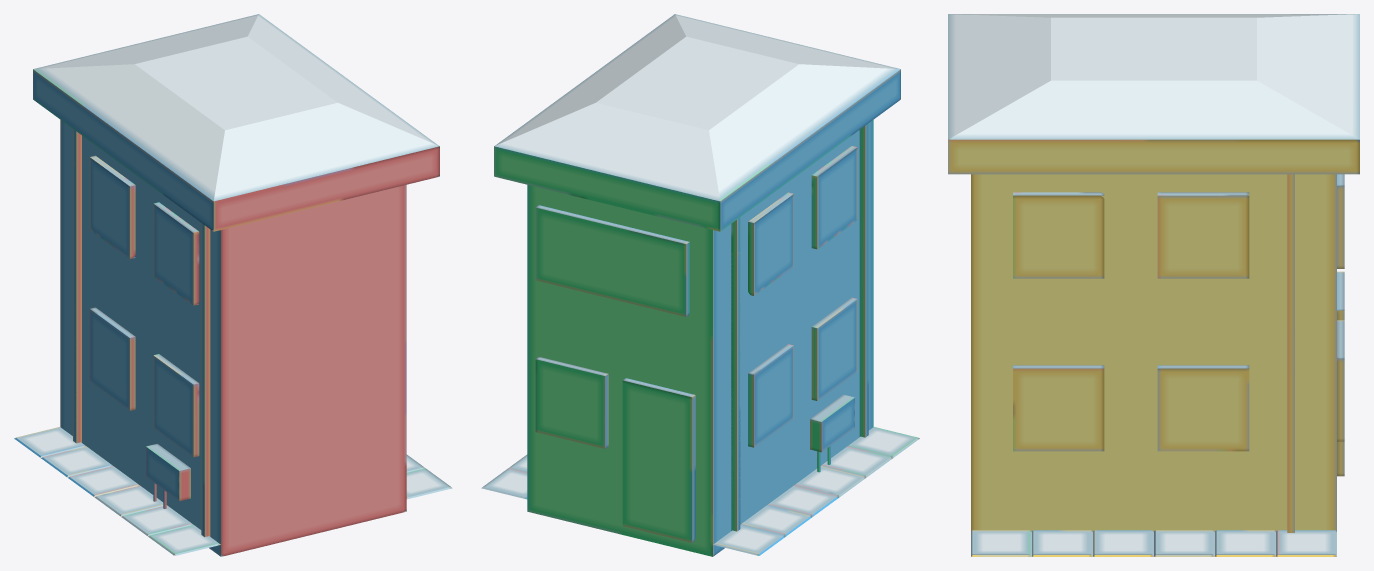
The model's file is House02.fbx.
3 views of the same model, side by side, from view 1: azimuth 30°, elevation 25°; view 2: azimuth 150°, elevation 25°; view 3: azimuth 270°, elevation 25° (orthographic). The views are drawn at different scales.
Visible parts, largest first — view 1: cuboid_6, cuboid_24, cuboid_16, cuboid_11, cuboid_25, cuboid_26, cuboid_10, cuboid_7, cuboid_8, cuboid, cuboid_2, cuboid_4 (+5 smaller); view 2: cuboid_6, cuboid_24, cuboid_27, cuboid_9, cuboid_12, cuboid_26, cuboid_16, cuboid_11, cuboid_25, cuboid_10, cuboid_7, cuboid_8 (+8 smaller); view 3: cuboid_6, cuboid_24, cuboid_14, cuboid_28, cuboid_15, cuboid_29, cuboid_17, cuboid_18, cuboid_19, cuboid_20, cuboid_21, cuboid_22 (+4 smaller).
Part boxes in pixels (<box>): cuboid_6: <box>60,120,406,556</box>; cuboid_24: <box>33,14,439,231</box>; cuboid_16: <box>153,354,199,457</box>; cuboid_11: <box>89,307,135,410</box>; cuboid_25: <box>89,155,135,258</box>; cuboid_26: <box>153,202,199,305</box>; cuboid_10: <box>201,223,210,536</box>; cuboid_7: <box>73,129,81,443</box>; cuboid_8: <box>146,443,190,501</box>; cuboid: <box>148,525,220,555</box>; cuboid_2: <box>68,466,139,497</box>; cuboid_4: <box>41,446,112,477</box>; cuboid_6: <box>527,120,873,556</box>; cuboid_24: <box>494,14,900,231</box>; cuboid_27: <box>535,205,689,316</box>; cuboid_9: <box>622,378,695,542</box>; cuboid_12: <box>535,357,608,448</box>; cuboid_26: <box>811,146,857,249</box>; cuboid_16: <box>811,297,857,400</box>; cuboid_11: <box>748,344,793,447</box>; cuboid_25: <box>748,192,793,295</box>; cuboid_10: <box>859,123,868,437</box>; cuboid_7: <box>731,217,740,531</box>; cuboid_8: <box>810,394,854,452</box>; cuboid_6: <box>971,174,1336,531</box>; cuboid_24: <box>948,14,1359,174</box>; cuboid_14: <box>1157,365,1249,451</box>; cuboid_28: <box>1157,192,1249,278</box>; cuboid_15: <box>1013,365,1104,451</box>; cuboid_29: <box>1013,192,1104,278</box>; cuboid_17: <box>1287,174,1294,532</box>; cuboid_18: <box>971,530,1031,556</box>; cuboid_19: <box>1032,530,1092,556</box>; cuboid_20: <box>1093,530,1153,556</box>; cuboid_21: <box>1154,530,1214,556</box>; cuboid_22: <box>1215,530,1275,556</box>.
Size of the model in its own units: 300 by 403 by 338.
Materials: 1 (1 with a texture image).
